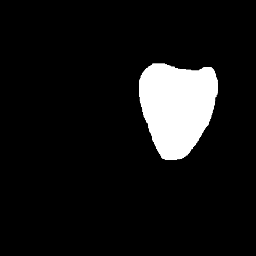mass: (136, 65, 218, 164)
